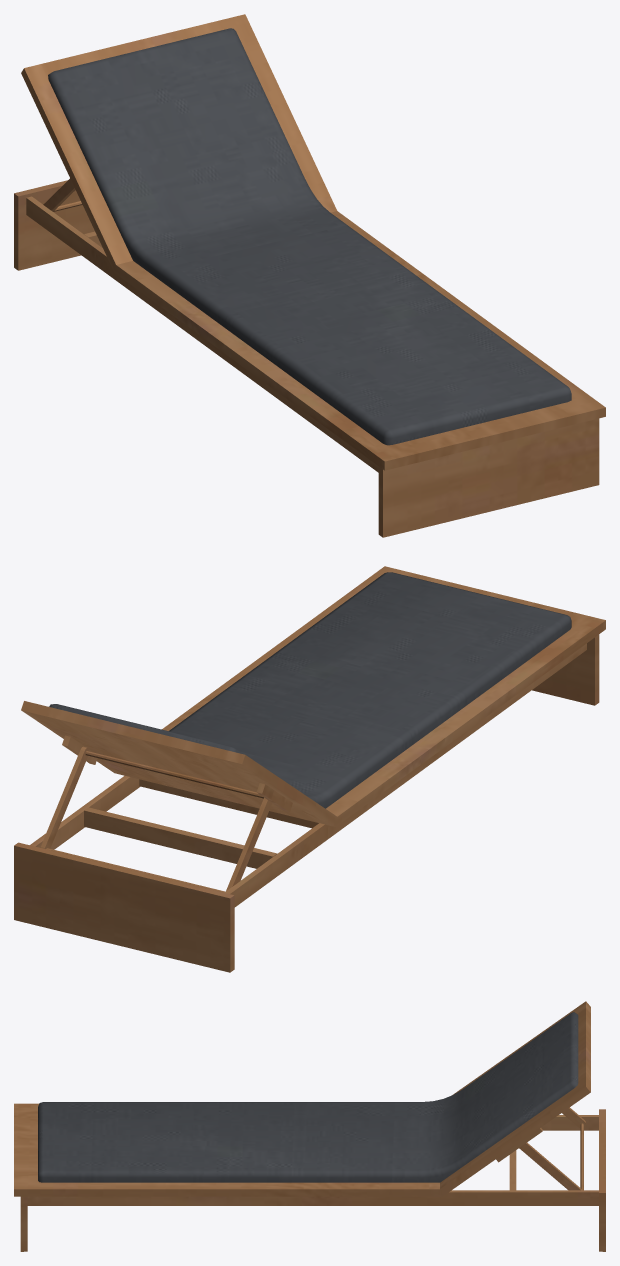
Rendered from cargo_sunbed.glb.
The picture shows the model from 3 angles, top to bottom: view 1: azimuth 30°, elevation 25°; view 2: azimuth 150°, elevation 25°; view 3: azimuth 270°, elevation 25°; orthographic projection. The views are drawn at different scales.
Visible parts, largest first — view 1: KB3D_NNY_Sunbed_A_Main; view 2: KB3D_NNY_Sunbed_A_Main; view 3: KB3D_NNY_Sunbed_A_Main.
Boxes of the visible parts, bbox=[...] form: KB3D_NNY_Sunbed_A_Main: bbox=[14, 14, 605, 537]; KB3D_NNY_Sunbed_A_Main: bbox=[14, 566, 605, 972]; KB3D_NNY_Sunbed_A_Main: bbox=[14, 1001, 605, 1251].
Bounding box in the file's own units: 0.7014 × 0.6344 × 2.05.
2 materials, 2 textured.
